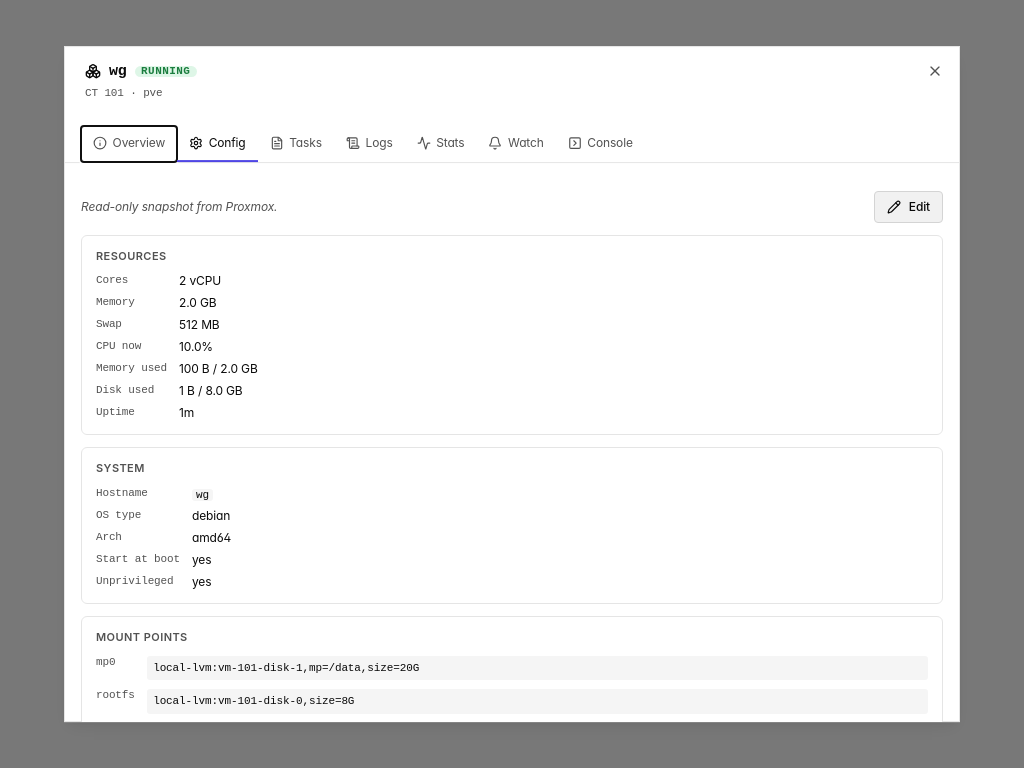
LxcModal Config editor — V6.9 › builds an add → review entry for a new interface
The width and height of the screenshot is (1024, 768).
Click the button "Edit" at (908, 207), box [874, 191, 943, 223]
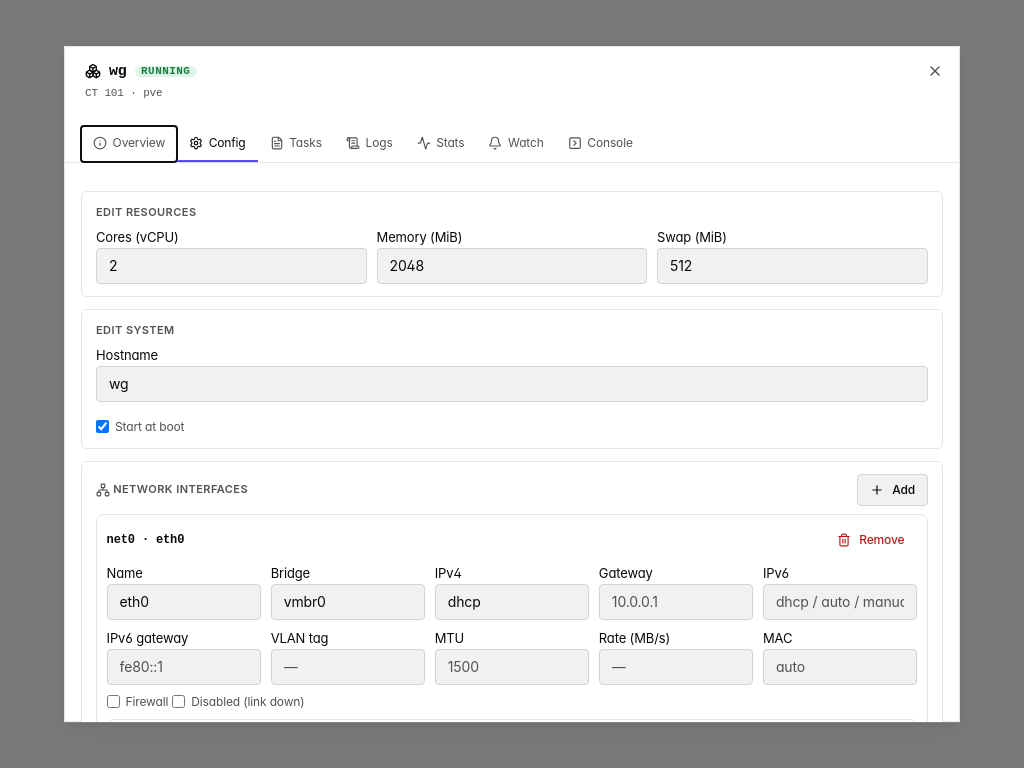
Now the heading "Network interfaces" is shown, box [96, 481, 248, 498]
Click the button "Add" at (893, 490), box [857, 474, 928, 506]
(page scrolled)
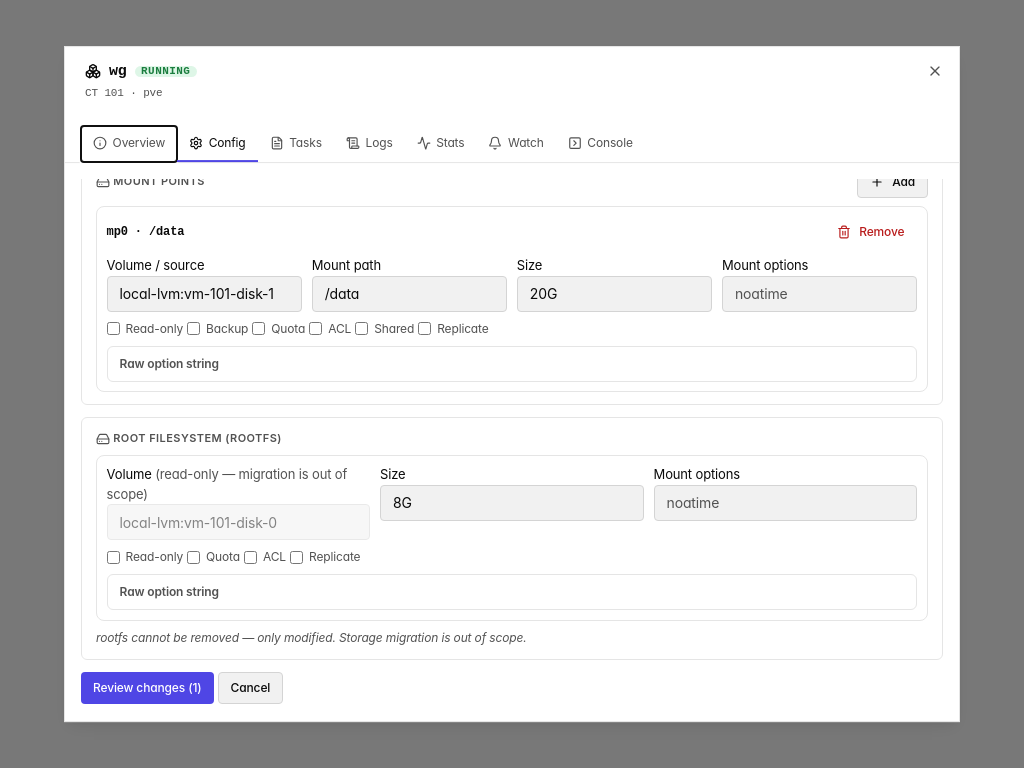
Click the button "Review changes (1)" at (147, 688), box [81, 672, 214, 704]
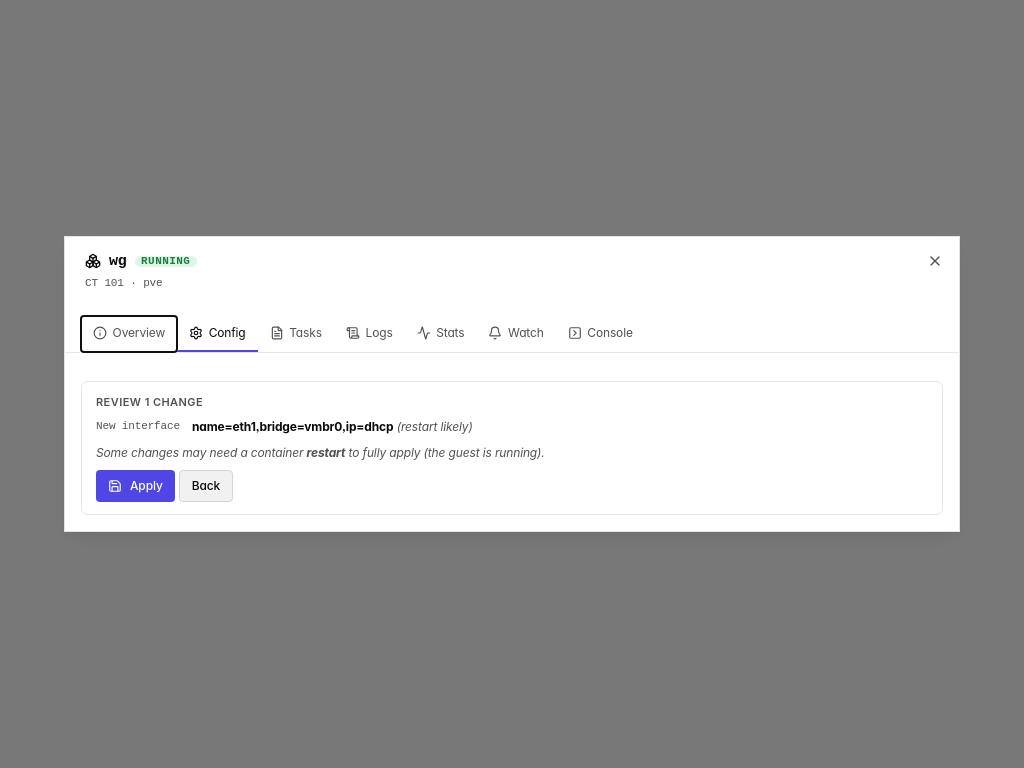
Now the heading "Review 1 change" is shown, box [96, 394, 203, 408]
Now the text "New interface" is shown, box [96, 418, 180, 436]
